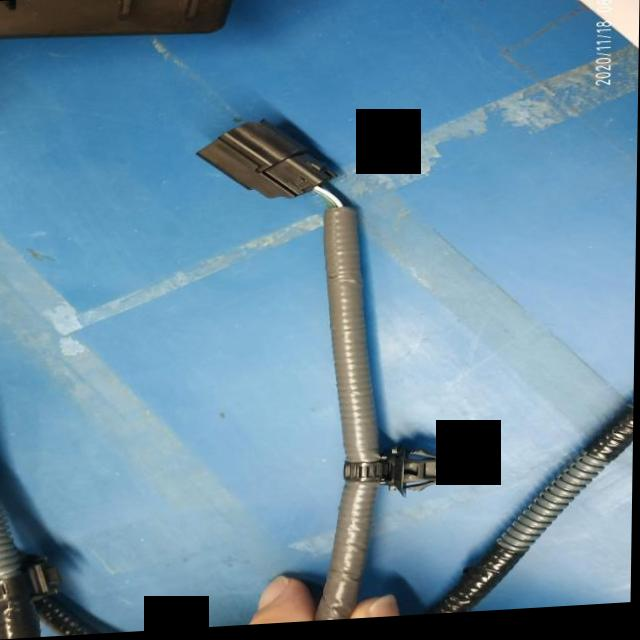cable: (431, 412, 634, 620), (325, 212, 380, 467), (318, 482, 379, 625)
clip: (345, 450, 444, 500)
connector: (198, 125, 336, 200)
